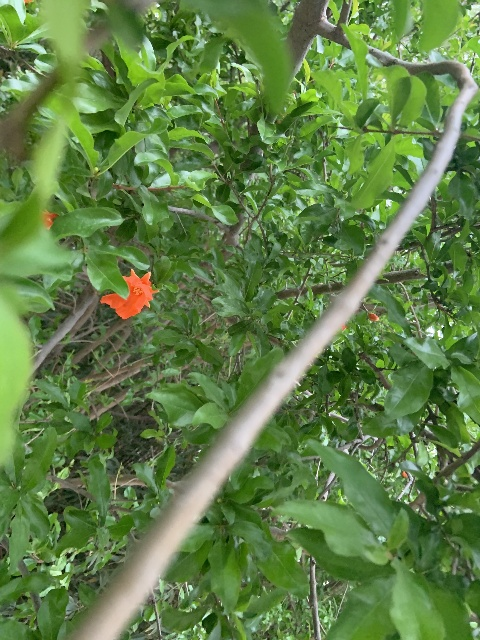bud: (368, 313, 378, 321)
flower: (100, 268, 158, 319), (41, 210, 59, 229)
